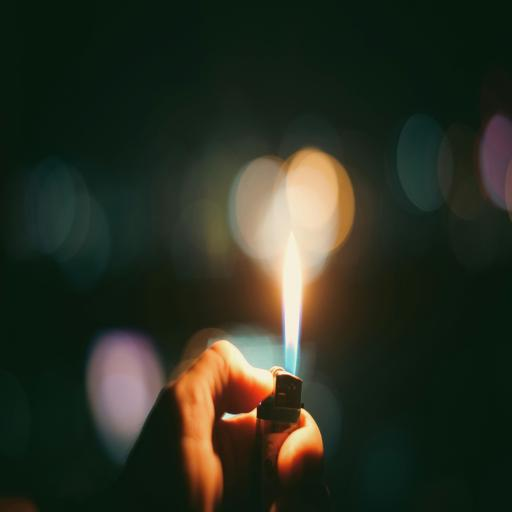lighter: (267, 233, 308, 512)
